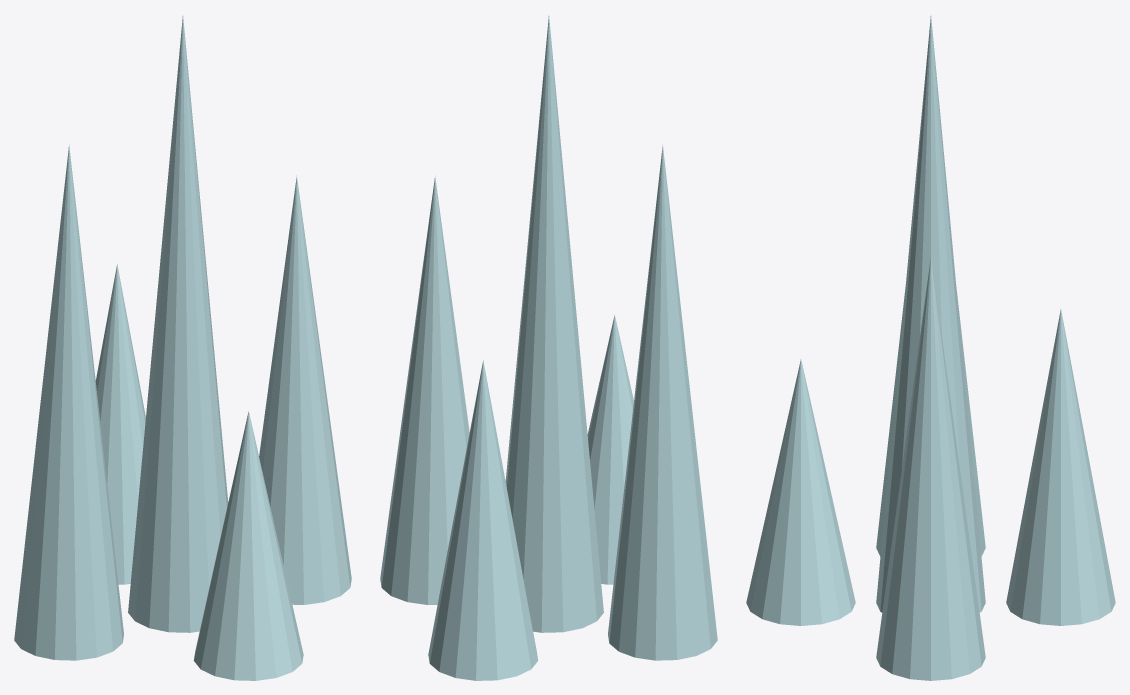
Rendered from obstacle_icycle_1.fbx.
3 views of the same model, side by side, from view 1: azimuth 30°, elevation 25°; view 2: azimuth 150°, elevation 25°; view 3: azimuth 270°, elevation 25° (orthographic).
Visible parts, largest first — view 1: Cone.002; view 2: Cone.002; view 3: Cone.002.
Part boxes in pixels (x1,y1,x2,y2): Cone.002: (14,16,351,680); Cone.002: (380,16,717,680); Cone.002: (746,16,1115,680).
Bounding box in the file's own units: 114 × 200 × 114.
